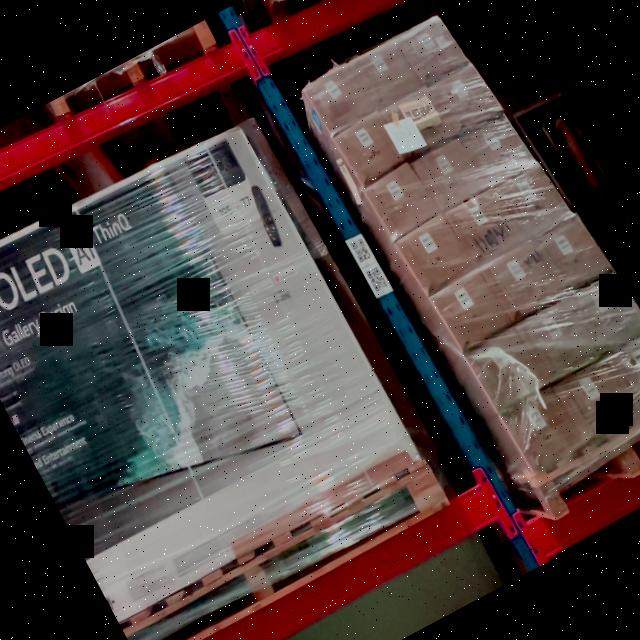box: (0, 126, 413, 614), (516, 300, 598, 384), (501, 388, 582, 470), (466, 326, 545, 410), (556, 358, 634, 441), (568, 271, 640, 354), (533, 214, 607, 294), (484, 242, 558, 320), (432, 272, 507, 348), (398, 215, 472, 292), (448, 187, 522, 264), (364, 162, 436, 238), (384, 86, 454, 158), (416, 138, 484, 212), (498, 163, 566, 237), (335, 112, 403, 184), (350, 40, 419, 110), (461, 115, 529, 183), (432, 61, 497, 132), (304, 65, 371, 133), (400, 17, 463, 82), (607, 329, 640, 412)
